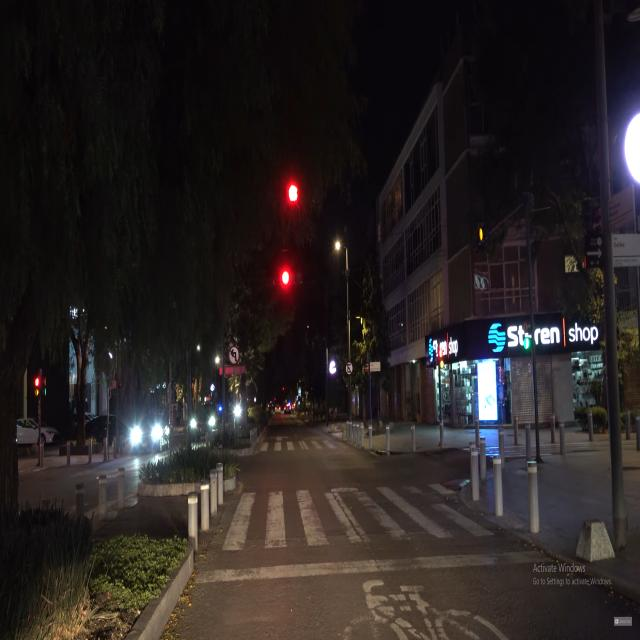headlights: (126, 418, 166, 451), (186, 414, 220, 438)
